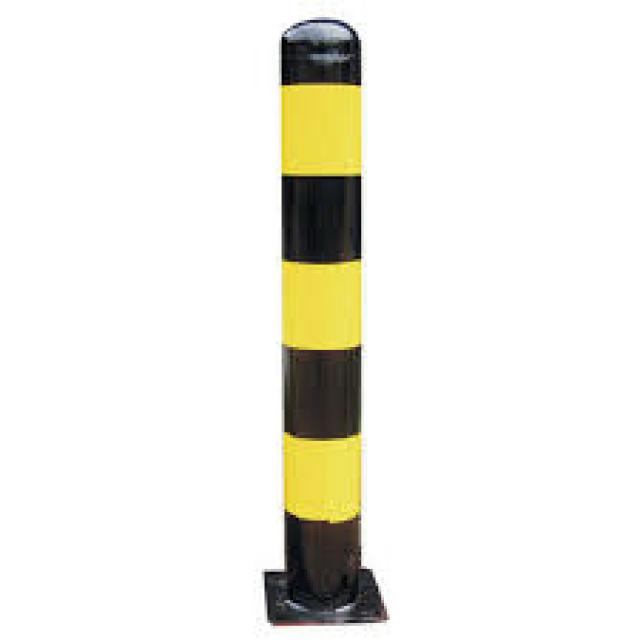bollard: (253, 12, 398, 635)
